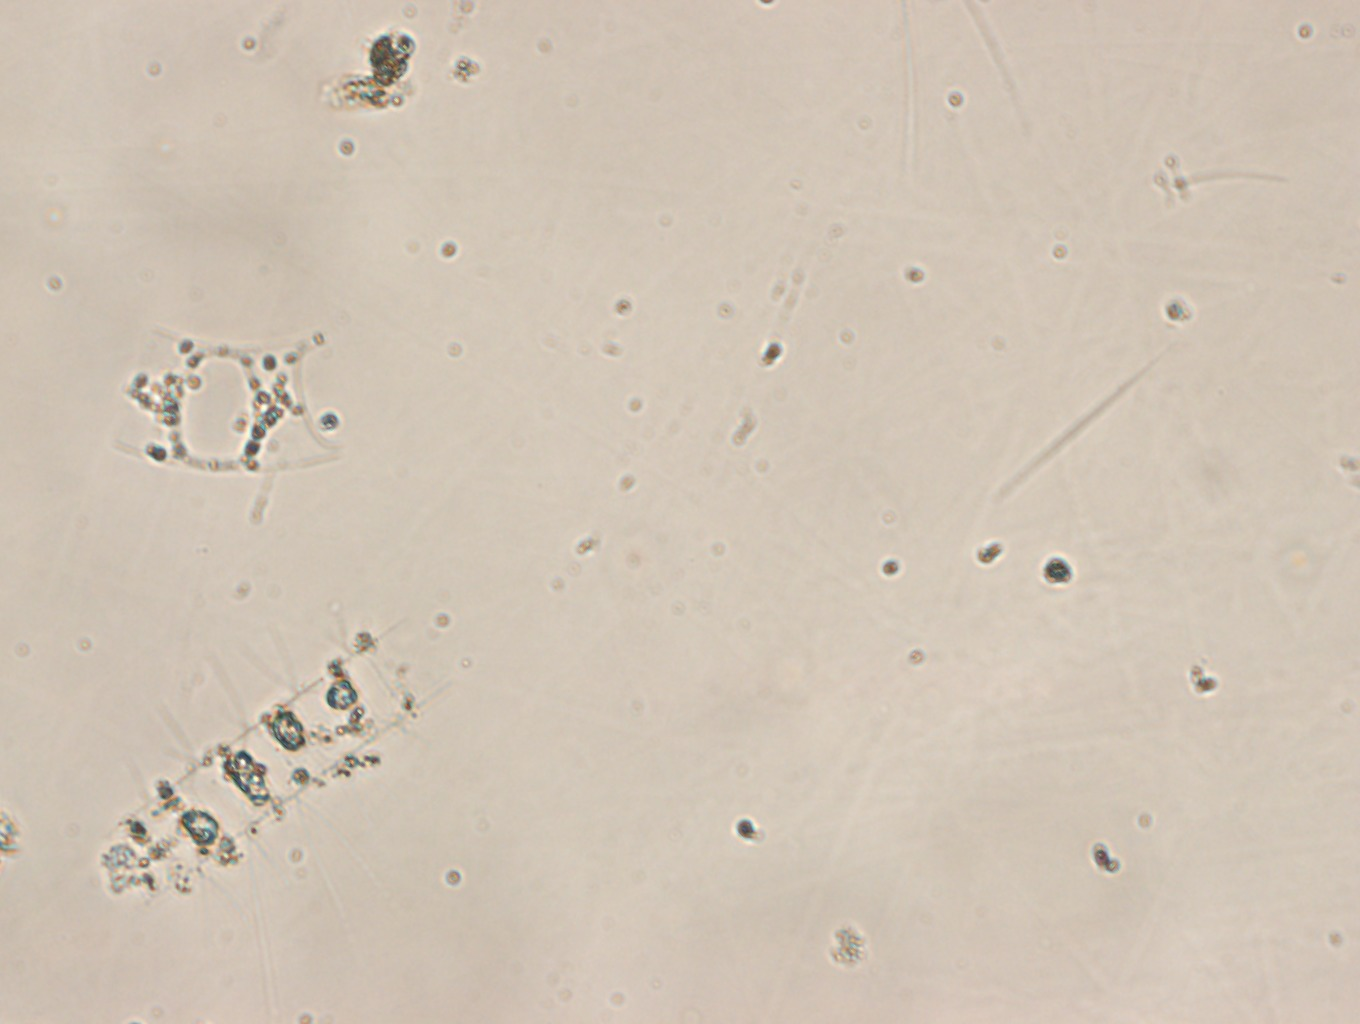chaetoceros: (101, 605, 466, 913)
eucampia: (111, 321, 353, 477)
